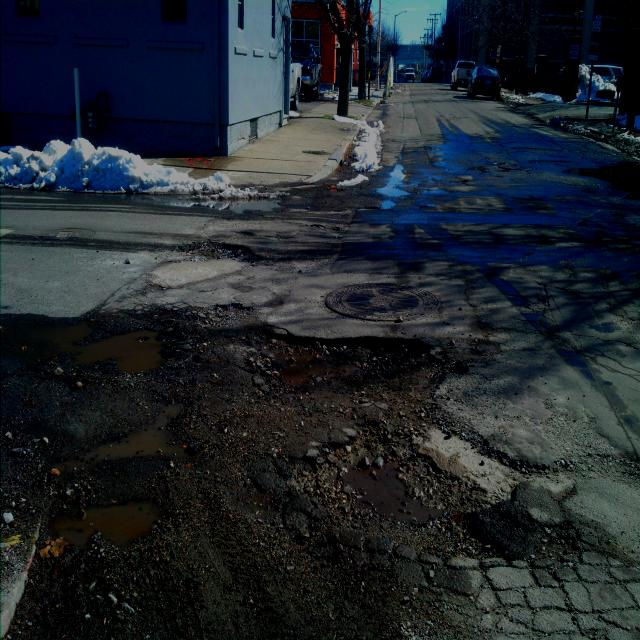Pothole: (0, 293, 493, 640), (304, 411, 550, 545), (246, 319, 446, 426), (13, 308, 185, 390)
